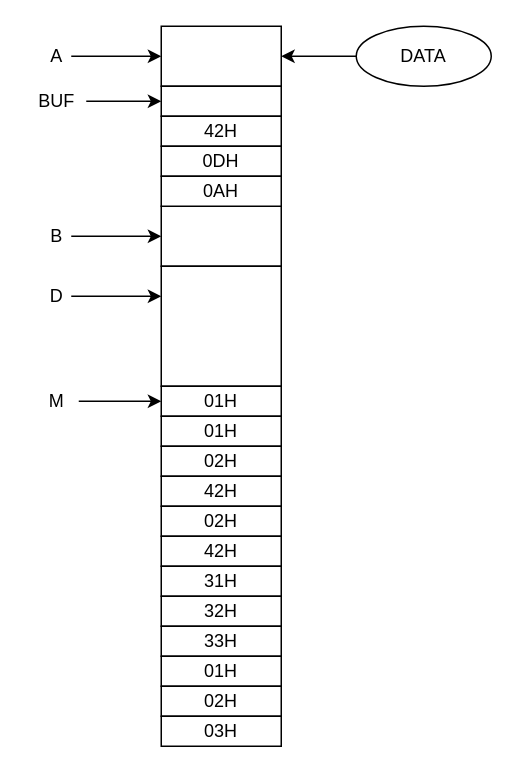
Image size: 518x773. Some labels were removed from this diagram. Here are the shapes that lost their labels. From the top down, the centre of each, then its label:
At point (220, 55): "000CH".
At point (220, 100): "41H".
At point (220, 235): "FFAAH".
At point (220, 325): "DATA: 0002H".
